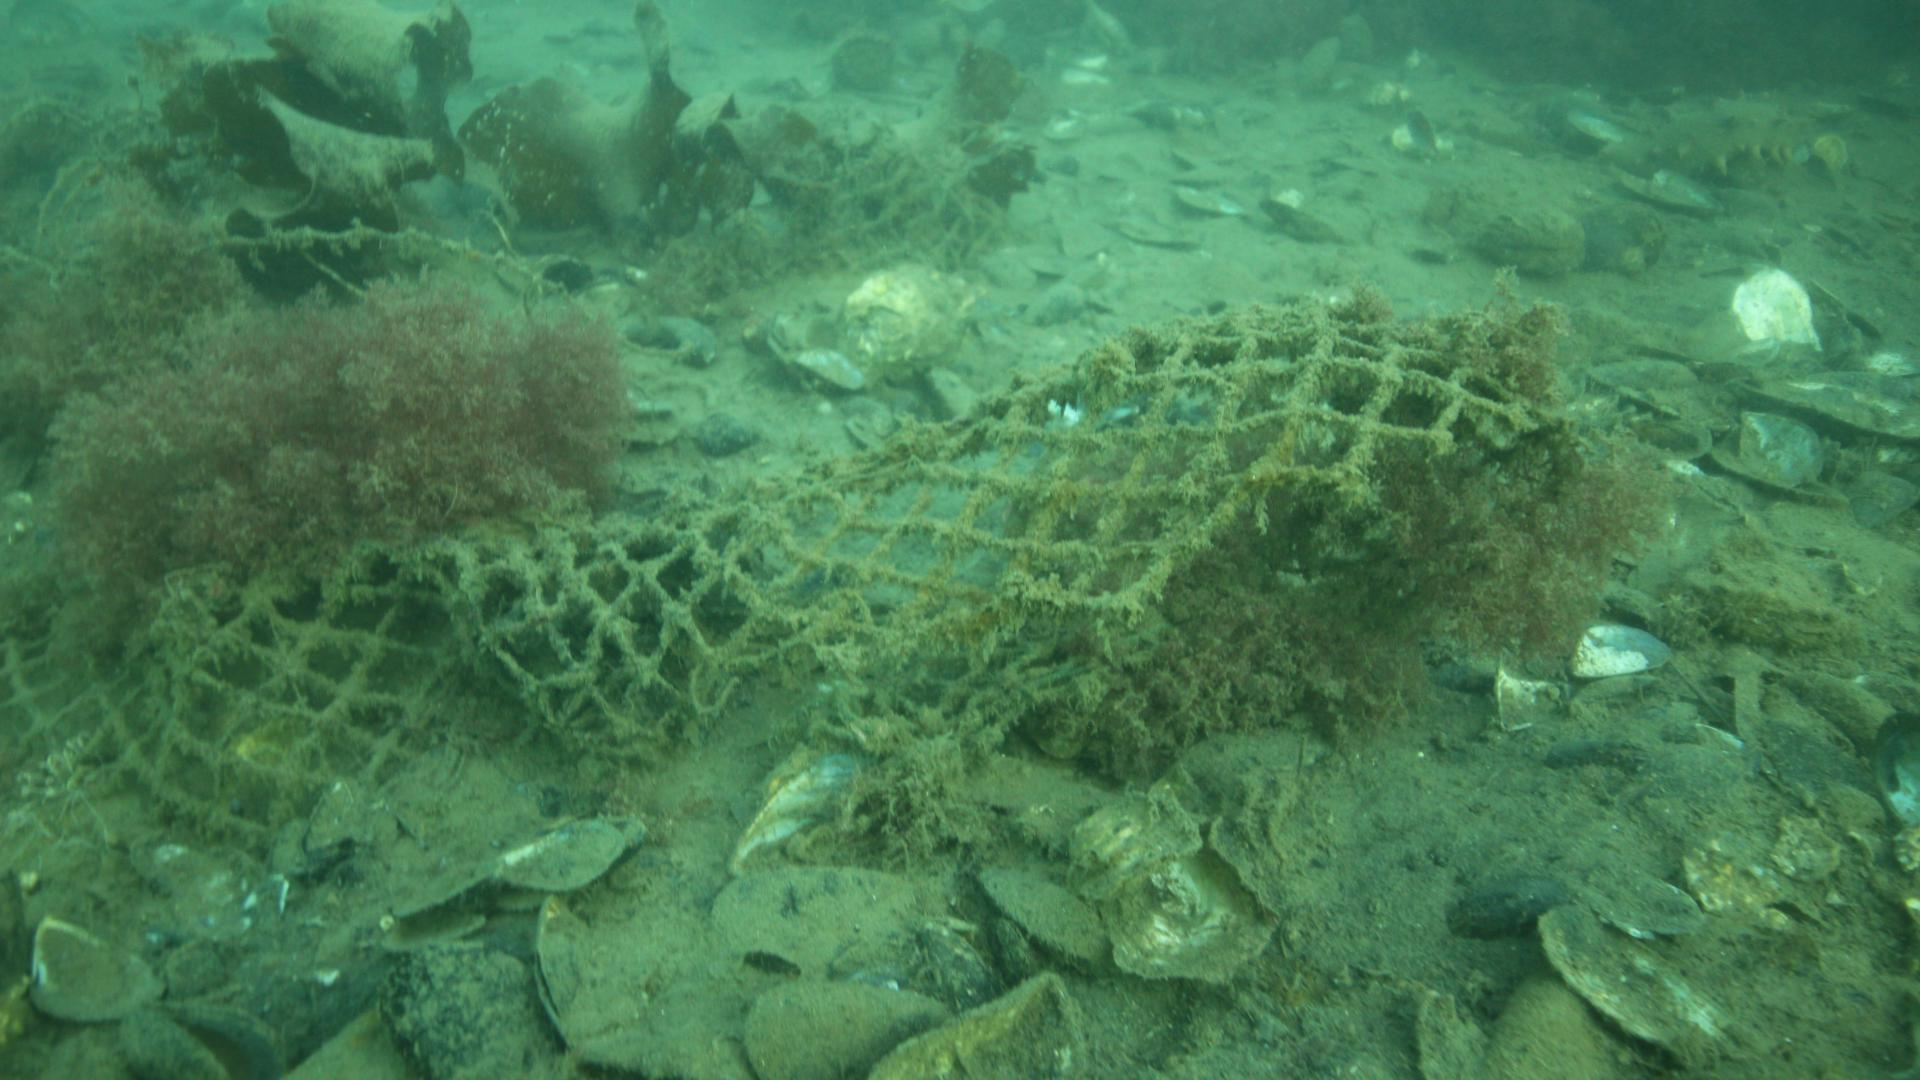fish net: (0, 291, 1526, 829)
